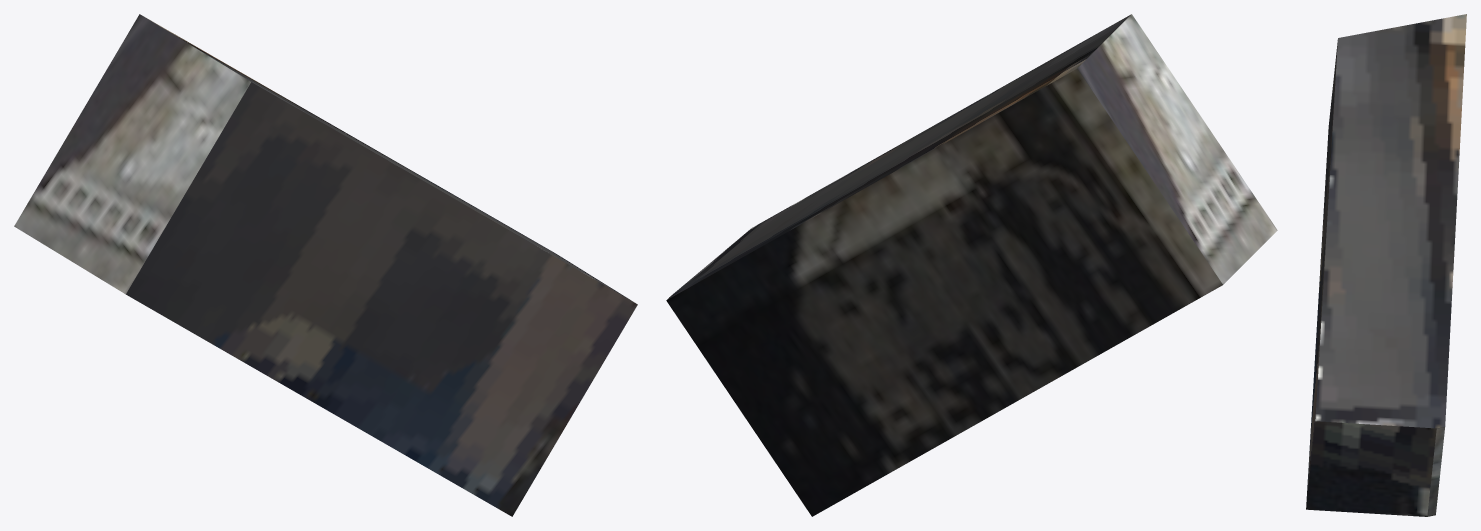
The picture shows the model from 3 angles, left to right: view 1: azimuth 30°, elevation 25°; view 2: azimuth 150°, elevation 25°; view 3: azimuth 270°, elevation 25°; orthographic projection. The views are drawn at different scales.
Parts seen in each view (by area): view 1: BAG_0599100010042503; view 2: BAG_0599100010042503; view 3: BAG_0599100010042503 (×2).
Boxes of the visible parts, box(x1,y1,x2,y2) form: BAG_0599100010042503: box(14, 14, 637, 516); BAG_0599100010042503: box(666, 14, 1277, 516); BAG_0599100010042503 (×2): box(1306, 14, 1466, 516).
Size of the model in its own units: 6.19 by 5.57 by 2.04.
Materials: 2 (2 with a texture image).
